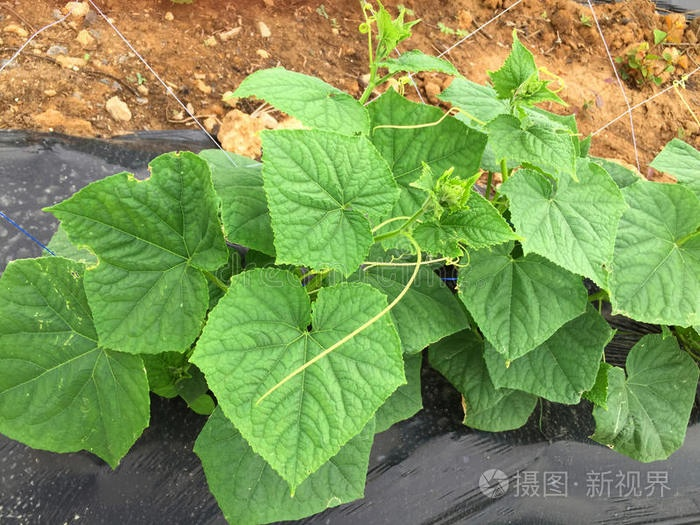cucumber_plant: (275, 79, 594, 257), (199, 256, 409, 515)
